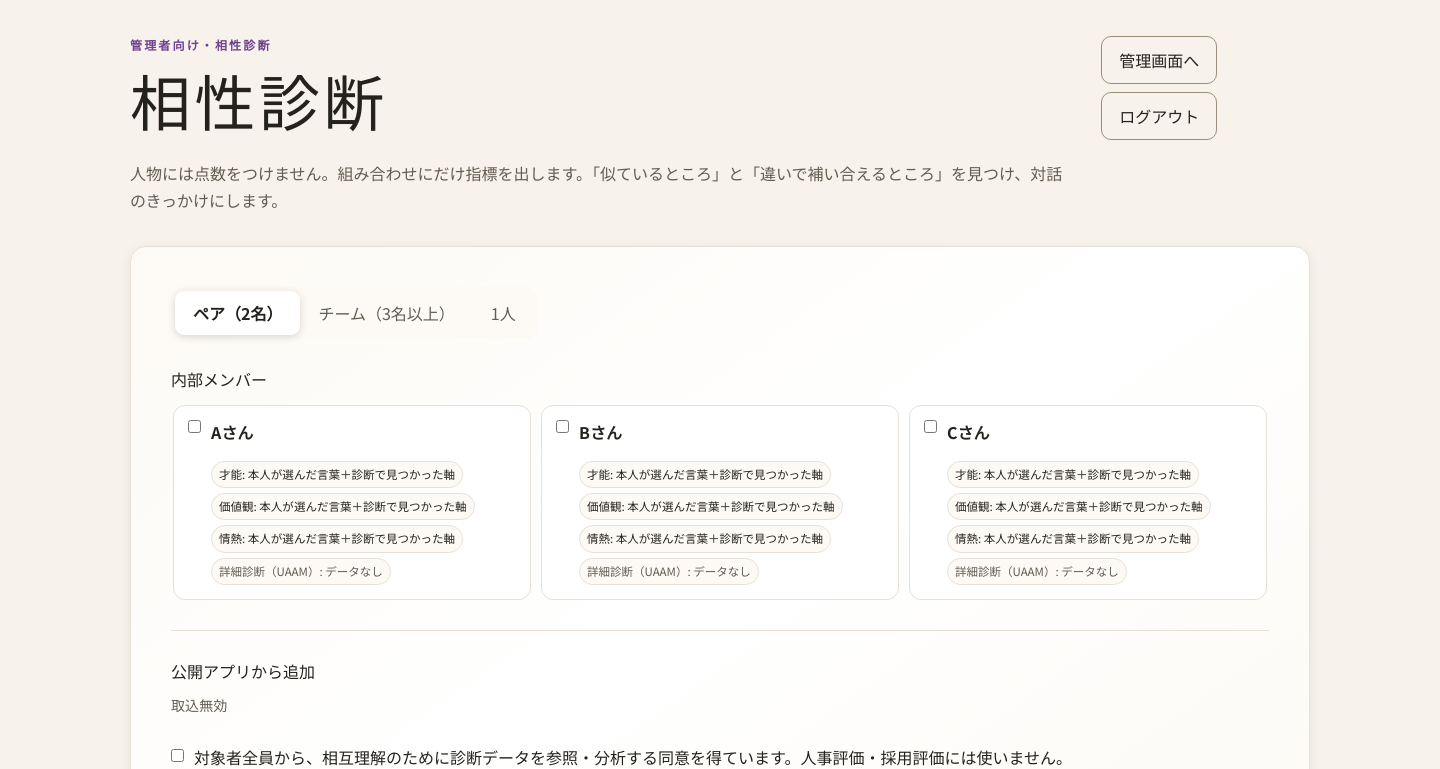
Scenario: CompatScreen › requires a team goal and consent before analysis
The width and height of the screenshot is (1440, 769).
Expected: the text "Aさん" is shown, [211,420,253,444]
Click the button "チーム（3名以上）".
click(387, 313)  # box [300,291,473,335]
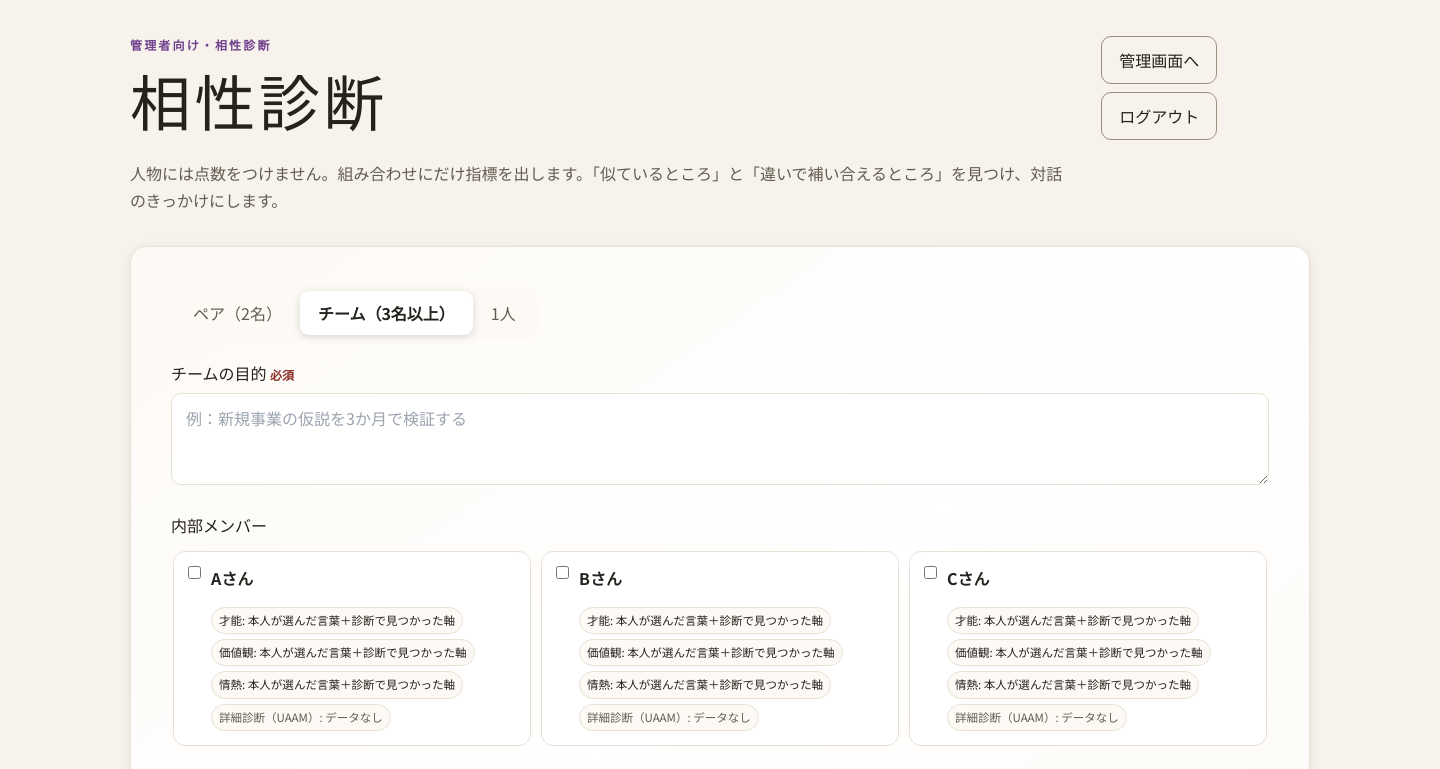
Click the 1st checkbox.
click(194, 572)  # box [188,566,201,579]
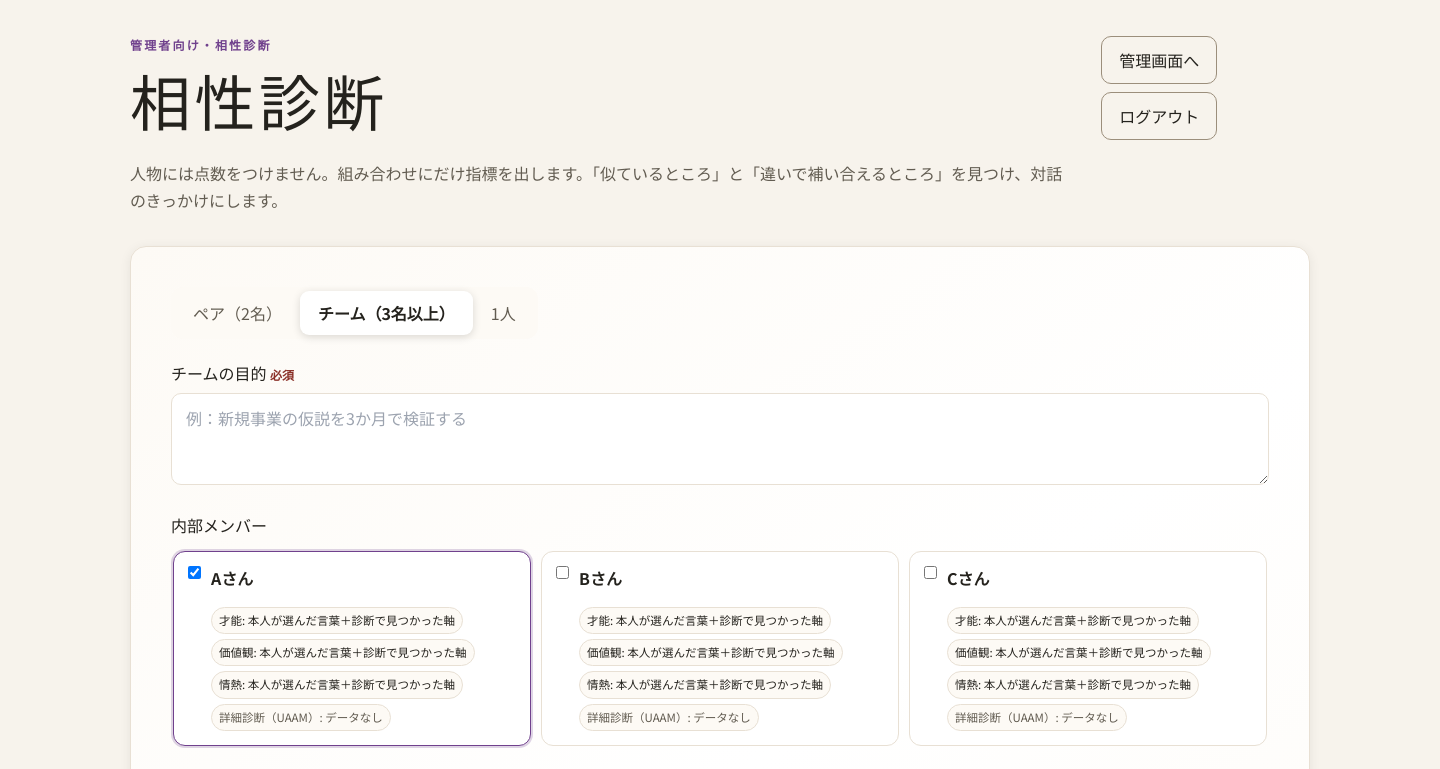
Click the 2nd checkbox.
click(562, 572)  # box [556,566,569,579]
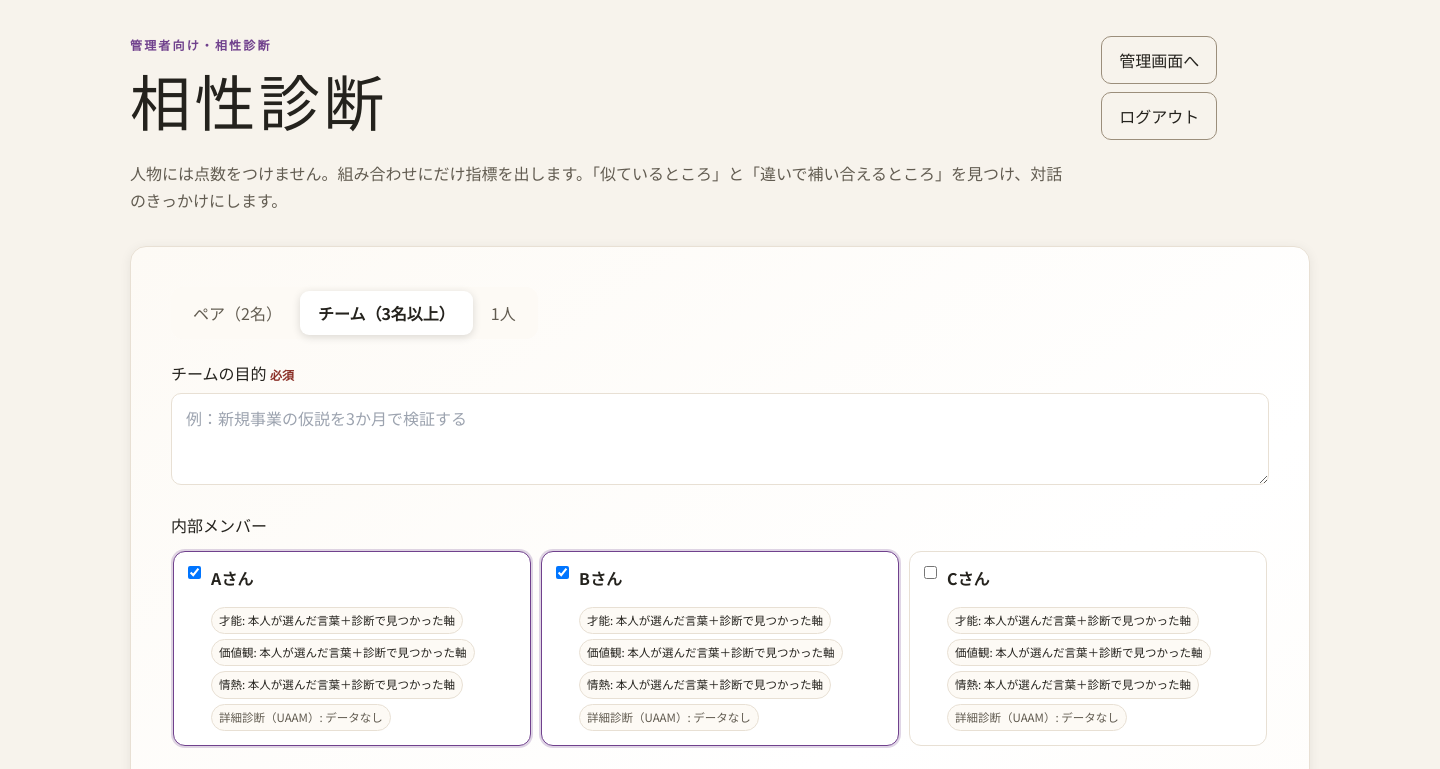
Click the 3rd checkbox.
click(930, 572)  # box [924,566,937,579]
(page scrolled)
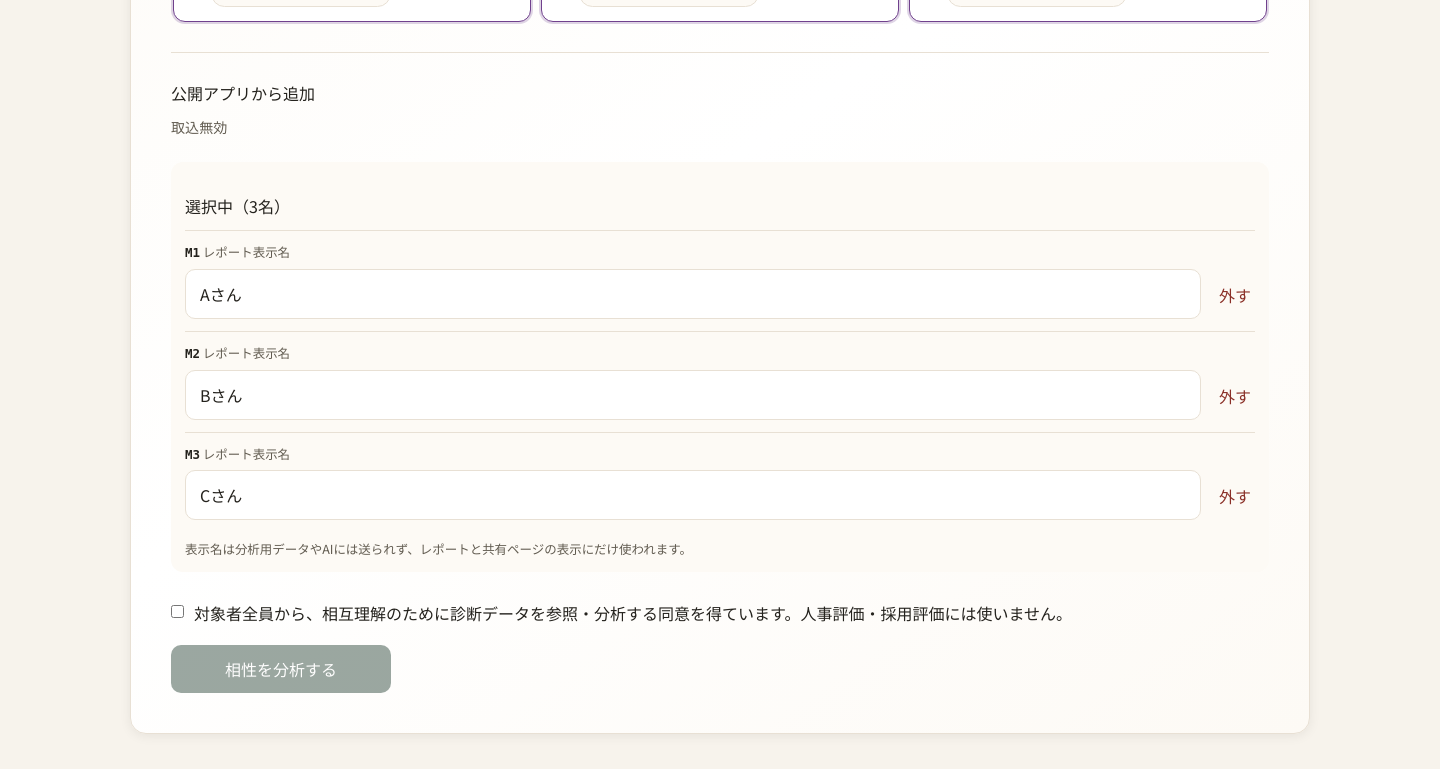
Click the checkbox.
click(178, 612)  # box [171,605,184,618]
(page scrolled)
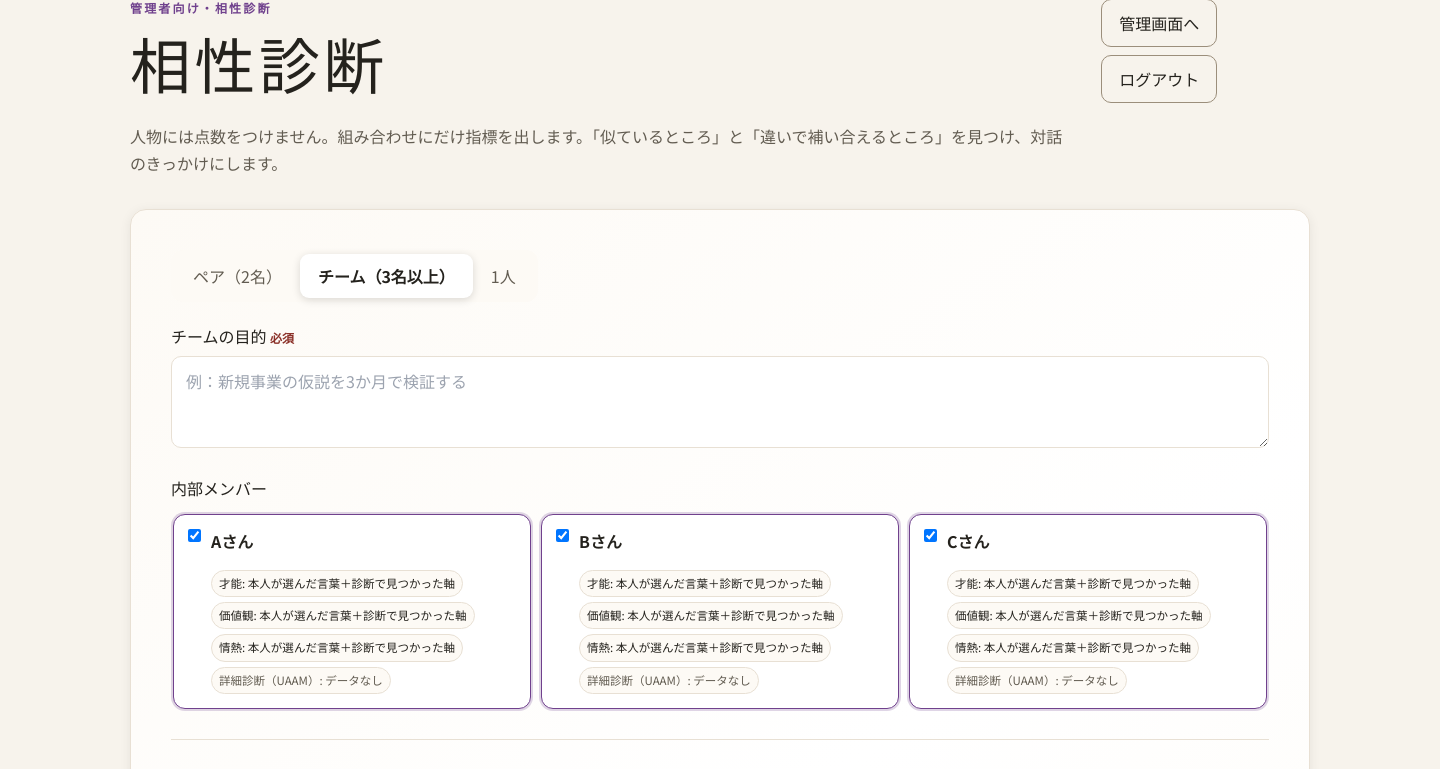
Type "新規事業の検証" into the text box labelled "チームの目的 必須".
click(720, 402); type("新規事業の検証")  # box [171,356,1269,448]
(page scrolled)
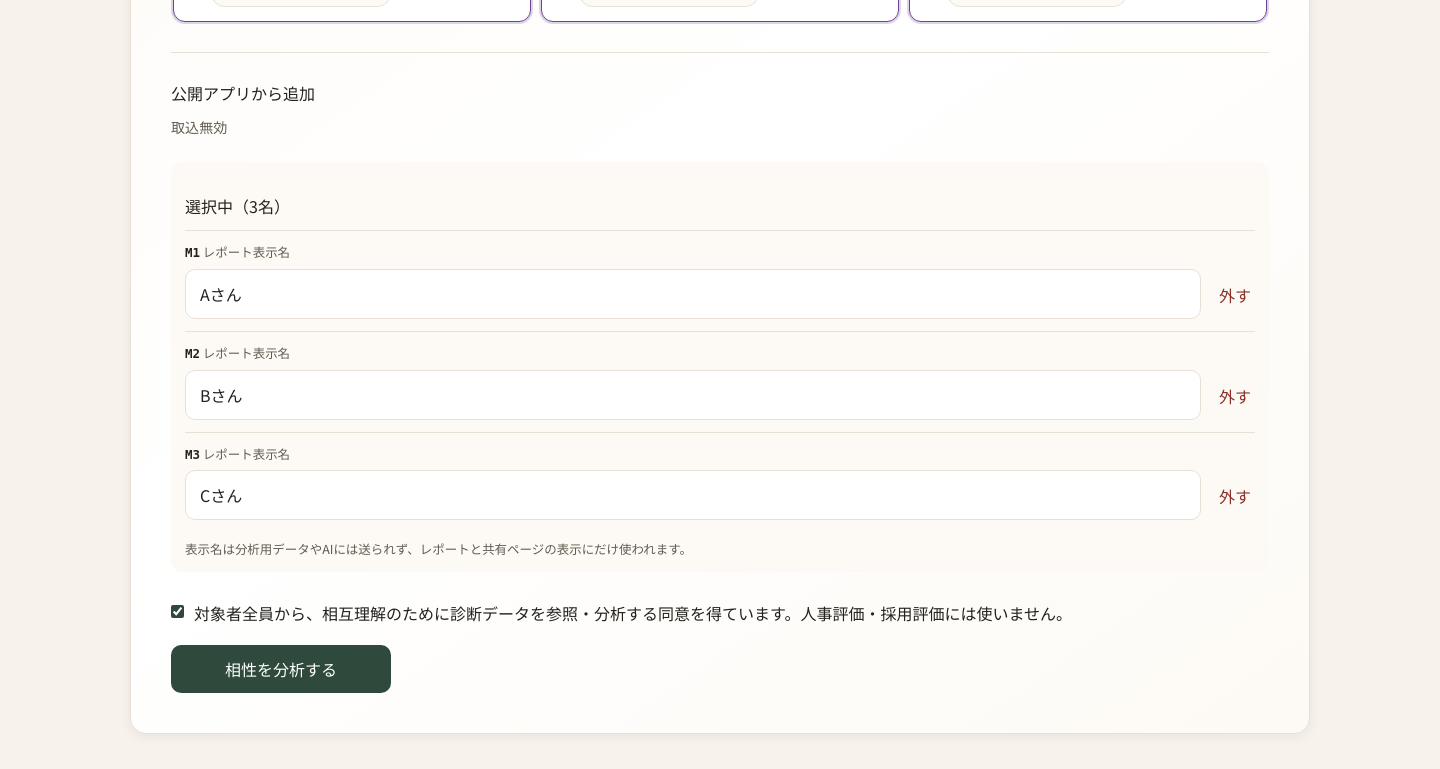
Expected: the button "相性を分析する" is enabled, [171,645,391,693]
